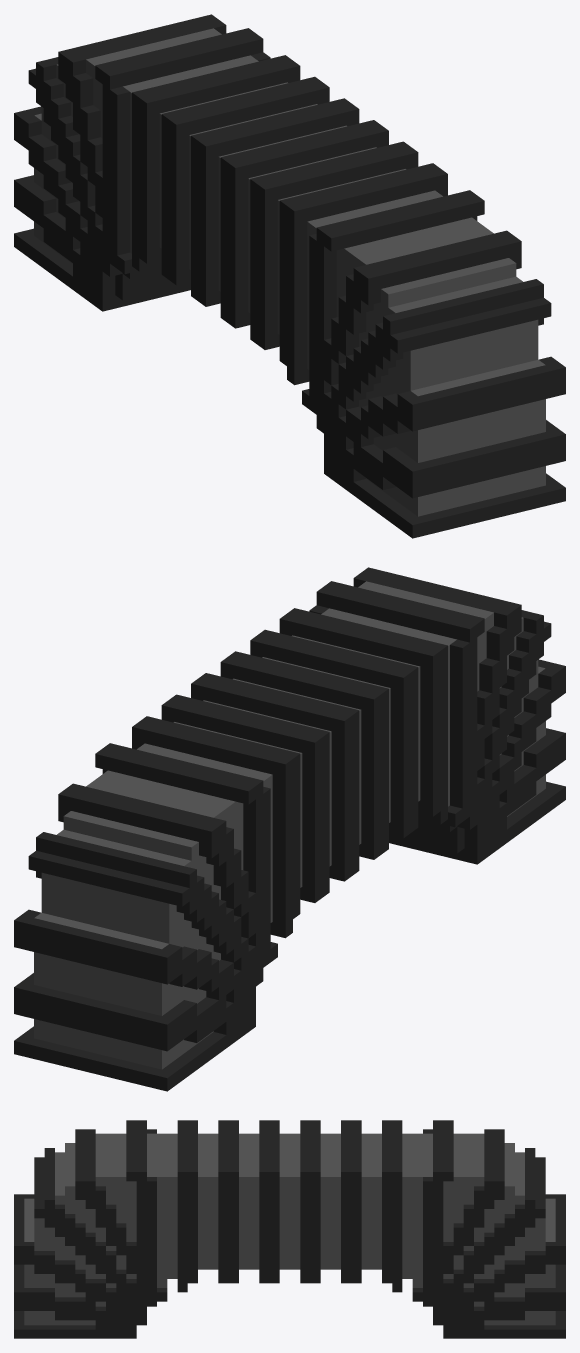
Rendered from Robot_vox-1-5.obj.
3 views of the same model, one above another, from view 1: azimuth 30°, elevation 25°; view 2: azimuth 150°, elevation 25°; view 3: azimuth 270°, elevation 25° (orthographic). The views are drawn at different scales.
Bounding box in the file's own units: 1.2 × 1.8 × 5.4.
Materials: 1 (1 with a texture image).
